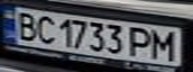1: (54, 16, 72, 47)
3: (103, 21, 130, 56), (84, 19, 109, 53)
7: (69, 17, 87, 51)
B: (9, 9, 42, 40)
C: (33, 14, 57, 44)
M: (148, 28, 184, 61)
P: (124, 25, 157, 58)
